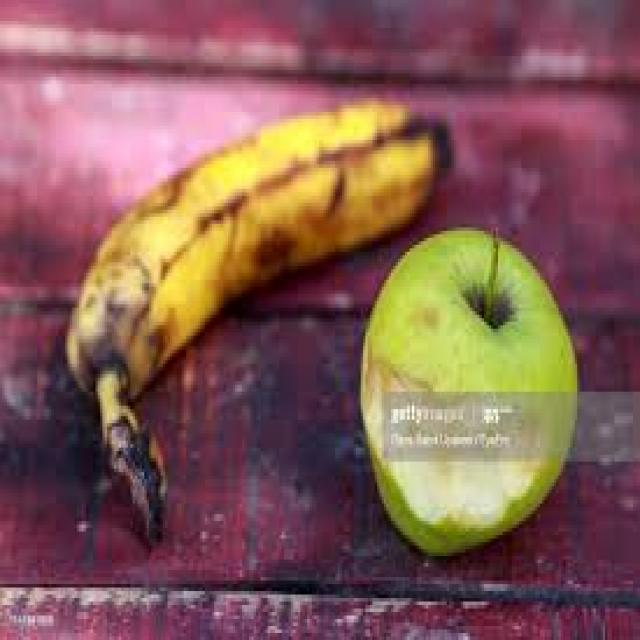organic waste: (63, 94, 451, 546), (356, 220, 575, 560)
